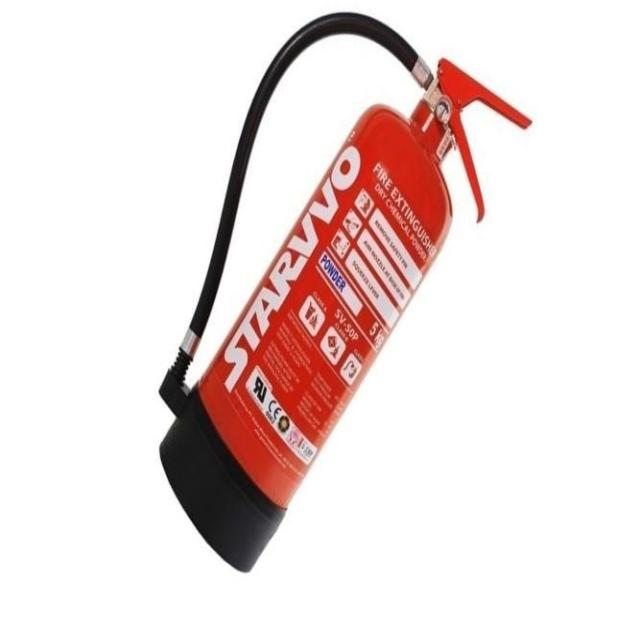fire_extinguisher: (152, 8, 536, 575)
